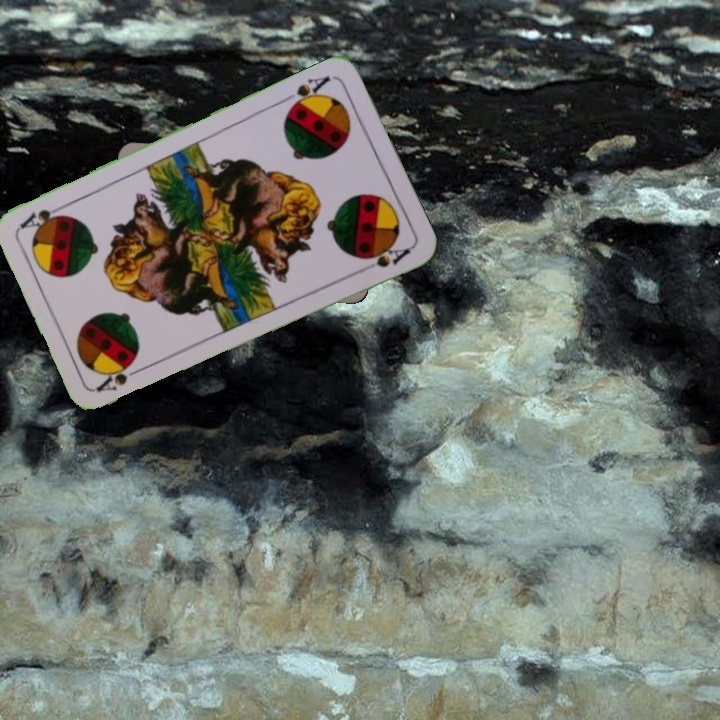SA: (284, 72, 333, 113), (93, 362, 149, 395)
